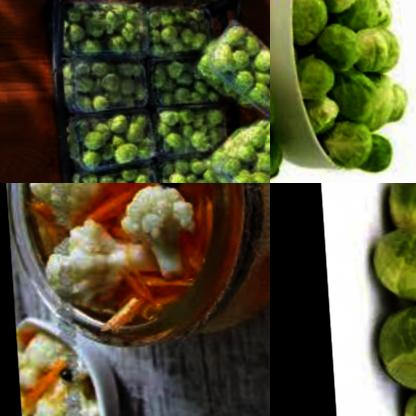brus capusta: (76, 7, 219, 183), (288, 0, 407, 181), (364, 183, 416, 416), (211, 36, 270, 124), (202, 118, 270, 183), (270, 52, 295, 183)
carrot: (97, 281, 172, 340), (168, 208, 217, 264), (81, 183, 134, 223)
cayliflower: (112, 183, 197, 287), (36, 221, 135, 302), (19, 183, 119, 223)
